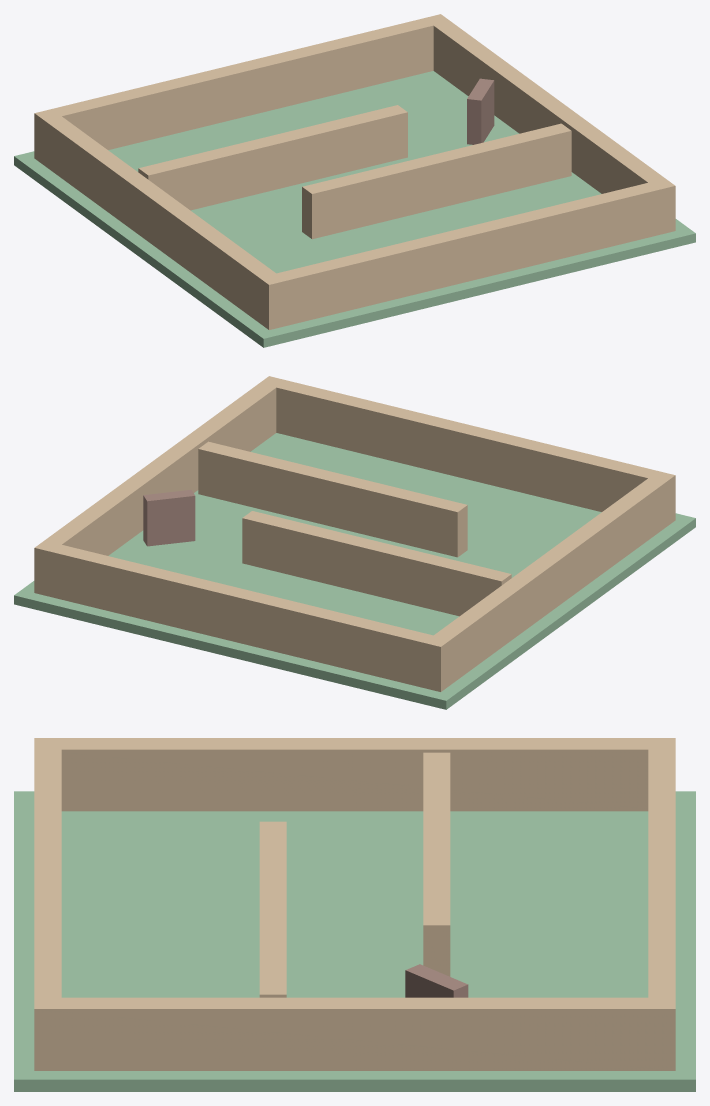
Rendered from marble_maze.glb.
The picture shows the model from 3 angles, top to bottom: view 1: azimuth 30°, elevation 25°; view 2: azimuth 150°, elevation 25°; view 3: azimuth 270°, elevation 25°; orthographic projection. The views are drawn at different scales.
Visible parts, largest first — view 1: floor_collider, south_collider, north_collider, west_collider, baffle_west_gap_collider, baffle_east_gap_collider, east_collider, bumper_collider; view 2: floor_collider, north_collider, south_collider, west_collider, baffle_west_gap_collider, baffle_east_gap_collider, east_collider, bumper_collider; view 3: floor_collider, east_collider, west_collider, south_collider, north_collider, baffle_east_gap_collider, baffle_west_gap_collider, bumper_collider.
Boxes of the visible parts, <box> form: floor_collider: <box>14,71,695,347</box>; south_collider: <box>259,178,675,329</box>; north_collider: <box>34,14,449,149</box>; west_collider: <box>34,110,286,329</box>; baffle_west_gap_collider: <box>302,123,571,239</box>; baffle_east_gap_collider: <box>138,105,407,210</box>; east_collider: <box>424,14,674,234</box>; bumper_collider: <box>467,78,494,144</box>; floor_collider: <box>14,433,695,709</box>; north_collider: <box>34,540,450,691</box>; south_collider: <box>259,377,675,526</box>; west_collider: <box>423,472,675,690</box>; baffle_west_gap_collider: <box>198,441,467,557</box>; baffle_east_gap_collider: <box>242,511,511,616</box>; east_collider: <box>34,376,285,595</box>; bumper_collider: <box>143,489,195,546</box>; floor_collider: <box>14,791,695,1091</box>; east_collider: <box>34,997,675,1070</box>; west_collider: <box>34,738,675,811</box>; south_collider: <box>34,738,61,1011</box>; north_collider: <box>648,738,675,1006</box>; baffle_east_gap_collider: <box>423,752,450,976</box>; baffle_west_gap_collider: <box>259,821,286,997</box>; bumper_collider: <box>405,964,468,997</box>.
Size of the model in its own units: 10 by 1.2 by 10.
